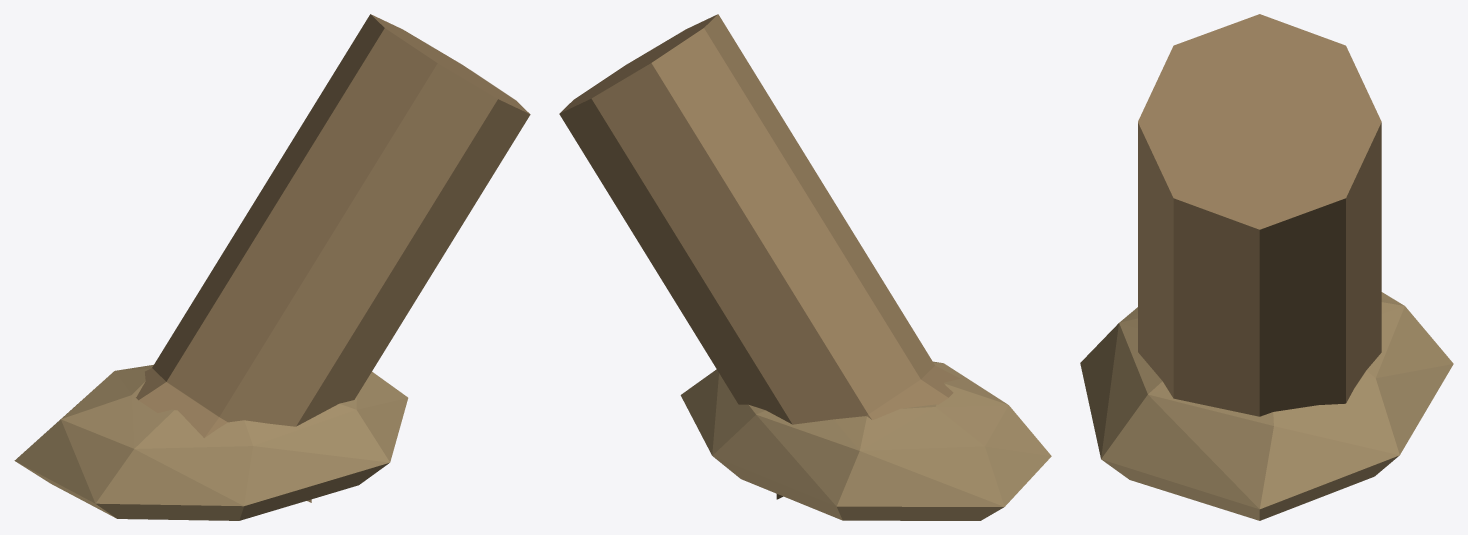
Rendered from buried-column.glb.
3 renders of one model, left to right at view 1: azimuth 30°, elevation 25°; view 2: azimuth 150°, elevation 25°; view 3: azimuth 270°, elevation 25°, orthographic. The views are drawn at different scales.
Parts seen in each view (by area): view 1: buried-column__body; view 2: buried-column__body; view 3: buried-column__body.
Part boxes in pixels (box(x1,y1,x2,y2)): buried-column__body: box(14, 14, 530, 520); buried-column__body: box(559, 14, 1051, 520); buried-column__body: box(1080, 14, 1453, 520).
Bounding box in the file's own units: 1.82 × 1.62 × 0.9804.
